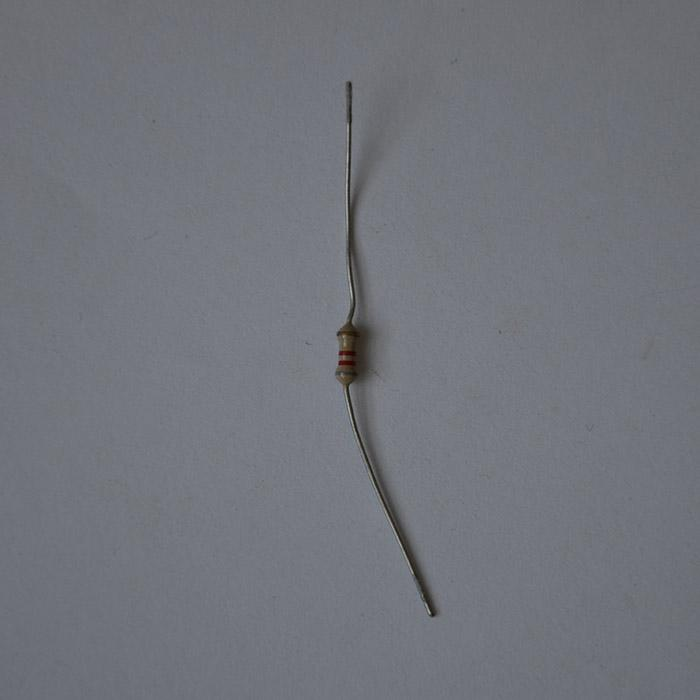resistor: (334, 322, 359, 385)
